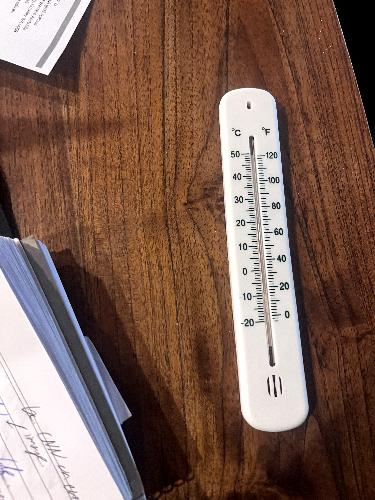thermo: (217, 89, 311, 433)
